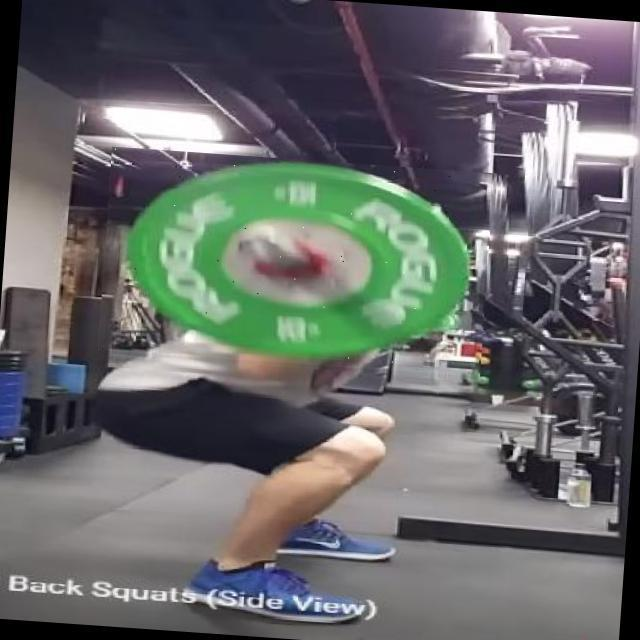barbell: (99, 148, 495, 380)
